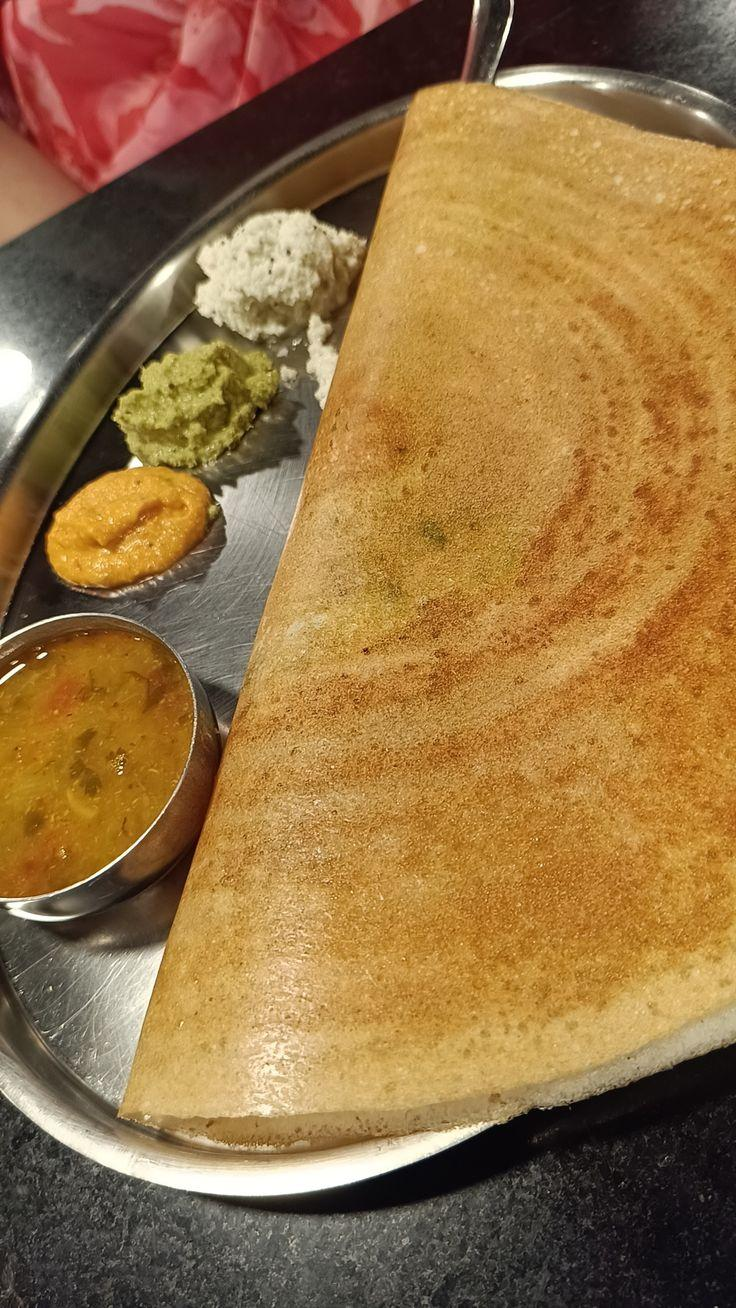dosa: (266, 60, 736, 1174)
